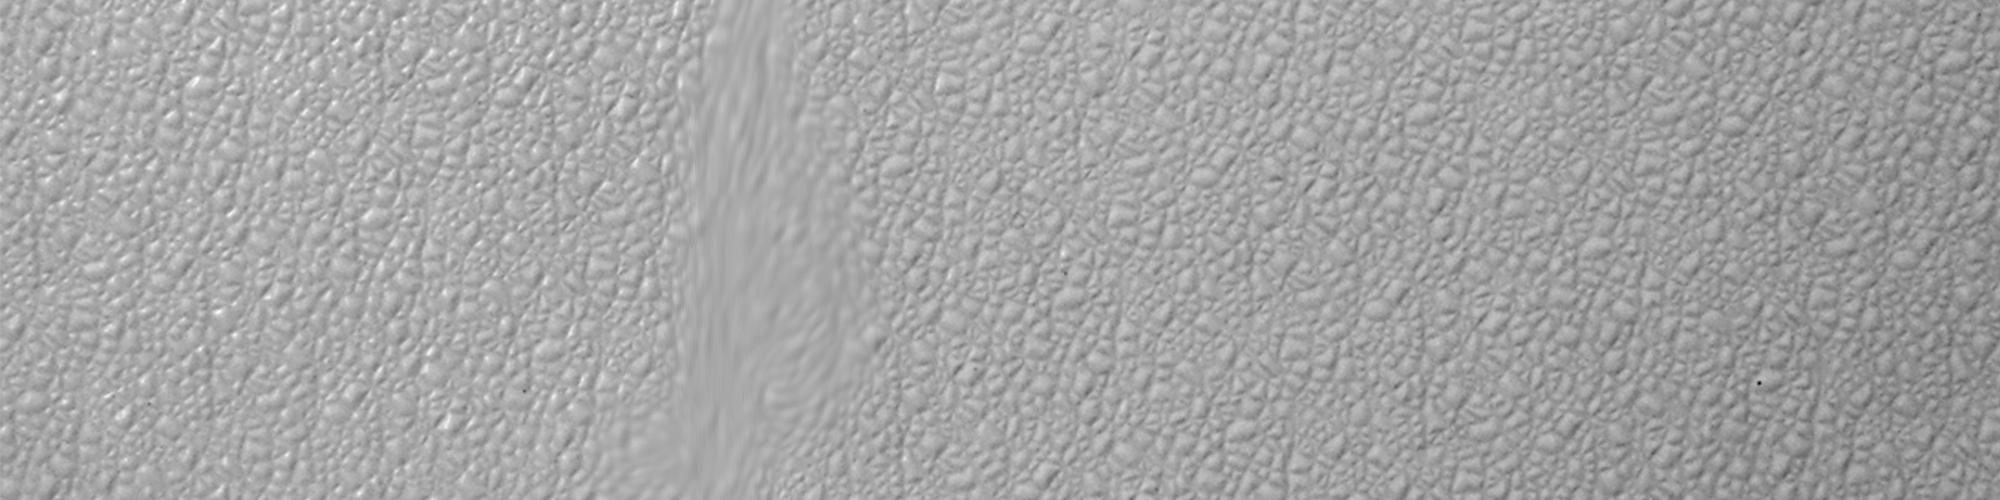Flow_Lines: (598, 19, 881, 500)
